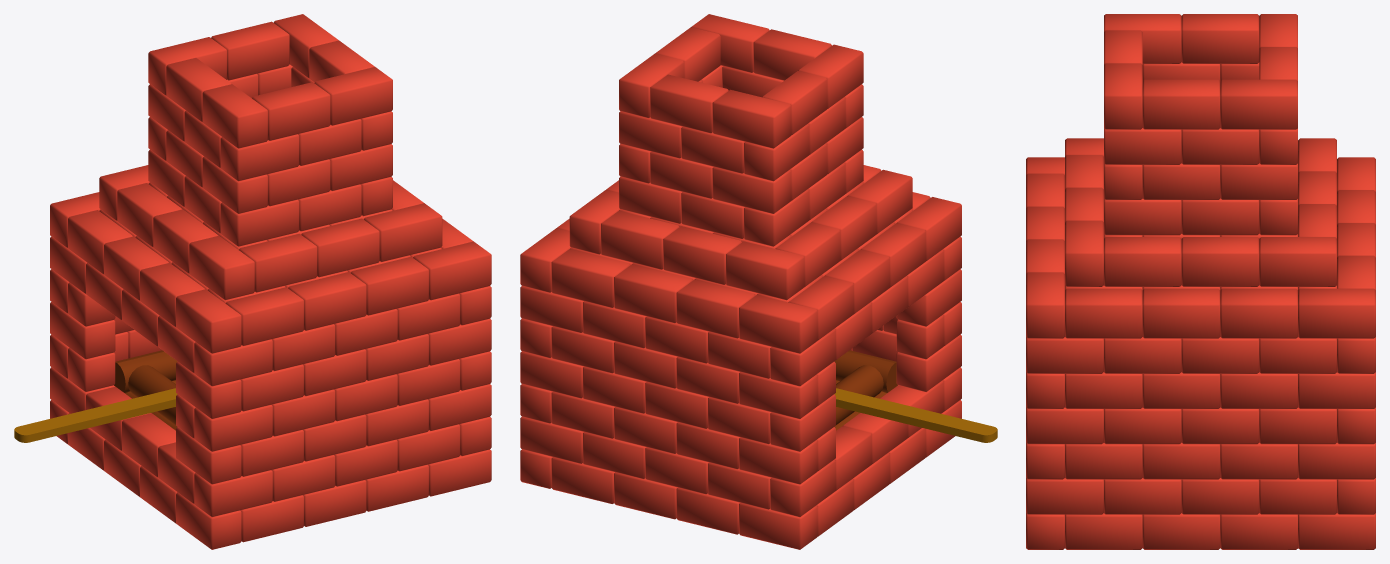
Rendered from BrickOven.fbx.
3 views of the same model, side by side, from view 1: azimuth 30°, elevation 25°; view 2: azimuth 150°, elevation 25°; view 3: azimuth 270°, elevation 25° (orthographic). The views are drawn at different scales.
Visible parts, largest first — view 1: Cube.002, Cube.004, Cube.027, Cube.006, Cube.024, Cube.018, Cube.025, Cube.020, Cube.032, Cube.028, Cube.022, Cube.009 (+13 smaller); view 2: Cube.005, Cube.003, Cube.028, Cube.017, Cube.021, Cube.025, Cube.006, Cube.022, Cube.020, Cube.032, Cube.009, Cube.026 (+13 smaller); view 3: Cube.029, Cube, Cube.001, Cube.026, Cube.019, Cube.023, Cube.002, Cube.025, Cube.027, Cube.005, Cube.018, Cube.003 (+7 smaller).
Part boxes in pixels (x1=…): Cube.002: x1=225, y1=241, x2=491, y2=542; Cube.004: x1=194, y1=293, x2=460, y2=517; Cube.027: x1=252, y1=67, x2=392, y2=241; Cube.006: x1=176, y1=289, x2=241, y2=549; Cube.024: x1=220, y1=119, x2=361, y2=246; Cube.018: x1=239, y1=203, x2=442, y2=292; Cube.025: x1=166, y1=58, x2=267, y2=249; Cube.020: x1=117, y1=183, x2=254, y2=300; Cube.032: x1=68, y1=210, x2=205, y2=326; Cube.028: x1=148, y1=21, x2=289, y2=196; Cube.022: x1=148, y1=84, x2=221, y2=233; Cube.009: x1=50, y1=236, x2=195, y2=372; Cube.005: x1=551, y1=249, x2=817, y2=549; Cube.003: x1=520, y1=286, x2=771, y2=509; Cube.028: x1=650, y1=74, x2=791, y2=248; Cube.017: x1=601, y1=211, x2=804, y2=300; Cube.021: x1=619, y1=111, x2=744, y2=238; Cube.025: x1=762, y1=44, x2=863, y2=236; Cube.006: x1=896, y1=197, x2=961, y2=457; Cube.022: x1=744, y1=97, x2=845, y2=246; Cube.020: x1=775, y1=169, x2=912, y2=286; Cube.032: x1=788, y1=223, x2=925, y2=340; Cube.009: x1=770, y1=249, x2=943, y2=386; Cube.026: x1=619, y1=27, x2=720, y2=218; Cube.029: x1=1065, y1=288, x2=1375, y2=549; Cube: x1=1026, y1=337, x2=1336, y2=514; Cube.001: x1=1065, y1=372, x2=1375, y2=479; Cube.026: x1=1142, y1=79, x2=1297, y2=238; Cube.019: x1=1104, y1=237, x2=1336, y2=286; Cube.023: x1=1104, y1=128, x2=1259, y2=235; Cube.002: x1=1026, y1=173, x2=1064, y2=549; Cube.025: x1=1104, y1=14, x2=1259, y2=63; Cube.027: x1=1104, y1=30, x2=1142, y2=238; Cube.005: x1=1337, y1=157, x2=1375, y2=289; Cube.018: x1=1065, y1=155, x2=1103, y2=286; Cube.003: x1=1337, y1=337, x2=1375, y2=514.
Size of the model in its own units: 1263 by 1200 by 900.
